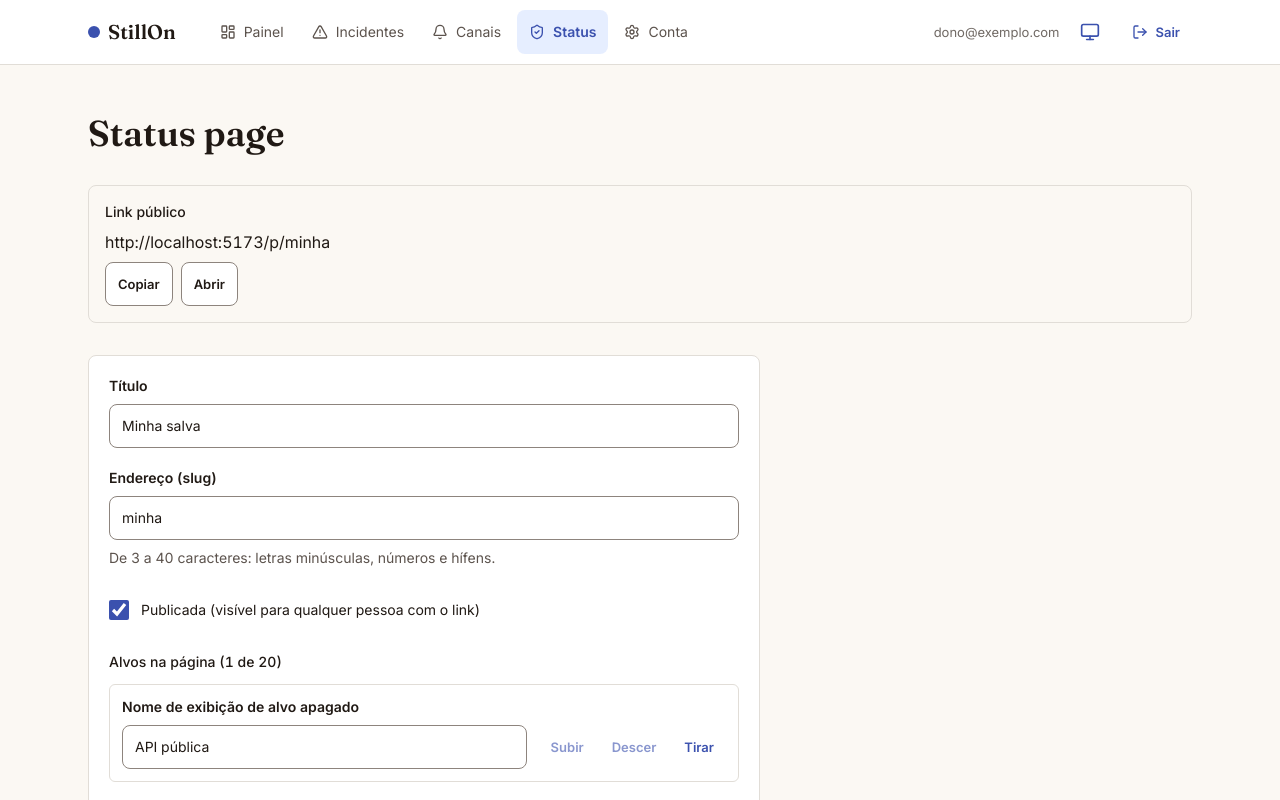
Test case: status page › Copiar avisa o sucesso, e a falha logo depois volta o rótulo a "Copiar"
Click the button "Copiar". click: point(139, 284)
box: x1=105 y1=262 x2=173 y2=306
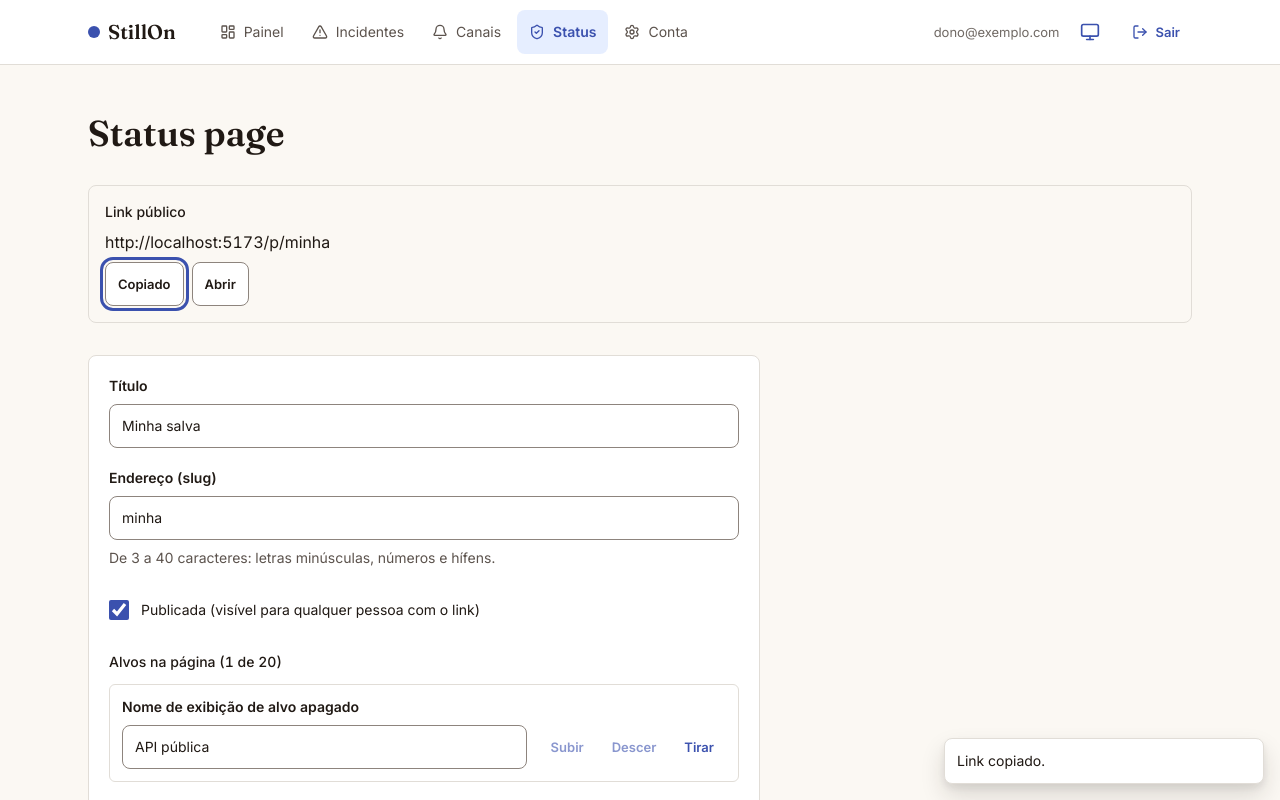
Now the text "Link copiado." is shown, box x1=957 y1=752 x2=1045 y2=769
Click the button "Copiado". click: point(144, 284)
box: x1=105 y1=262 x2=184 y2=306
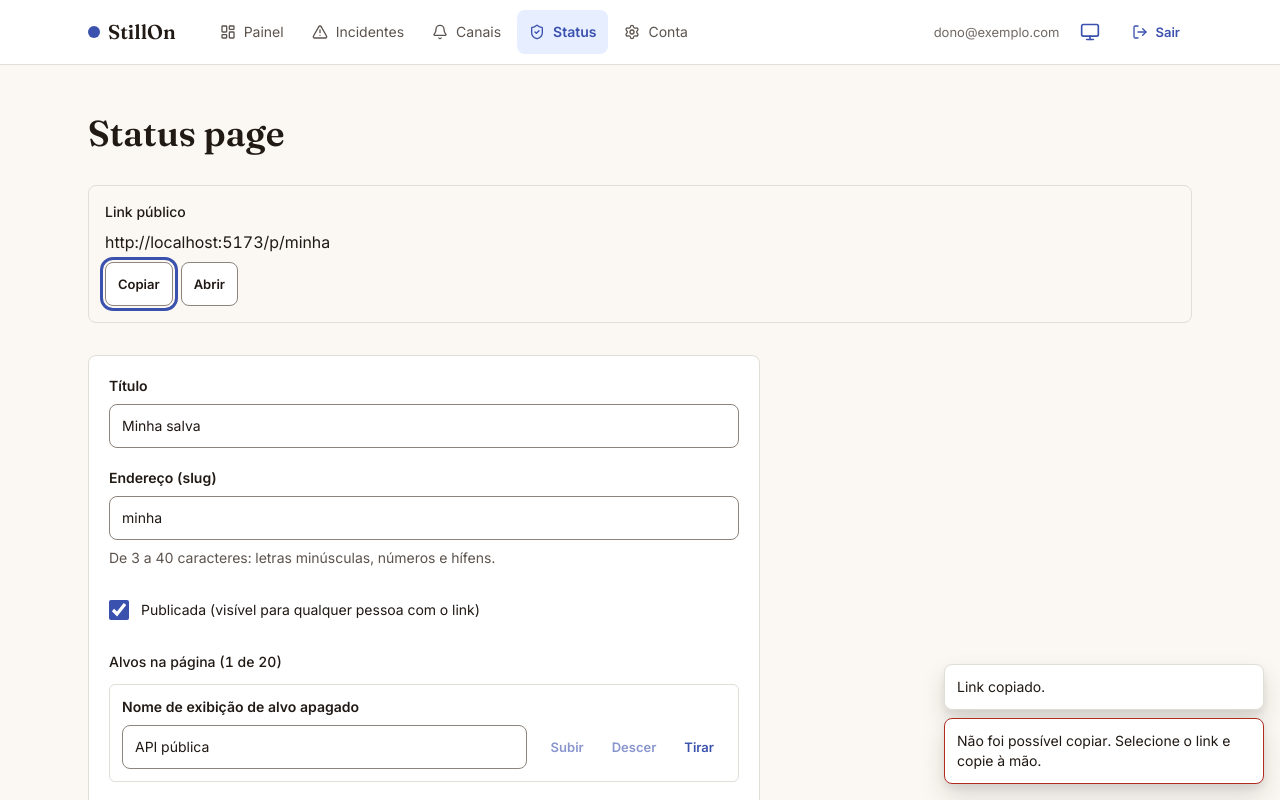
Now the text "Não foi possível copiar. Selecione o link e copie à mão." is shown, box x1=957 y1=731 x2=1251 y2=771
Now the button named "Copiado" reads "Copiar", box x1=105 y1=262 x2=173 y2=306
